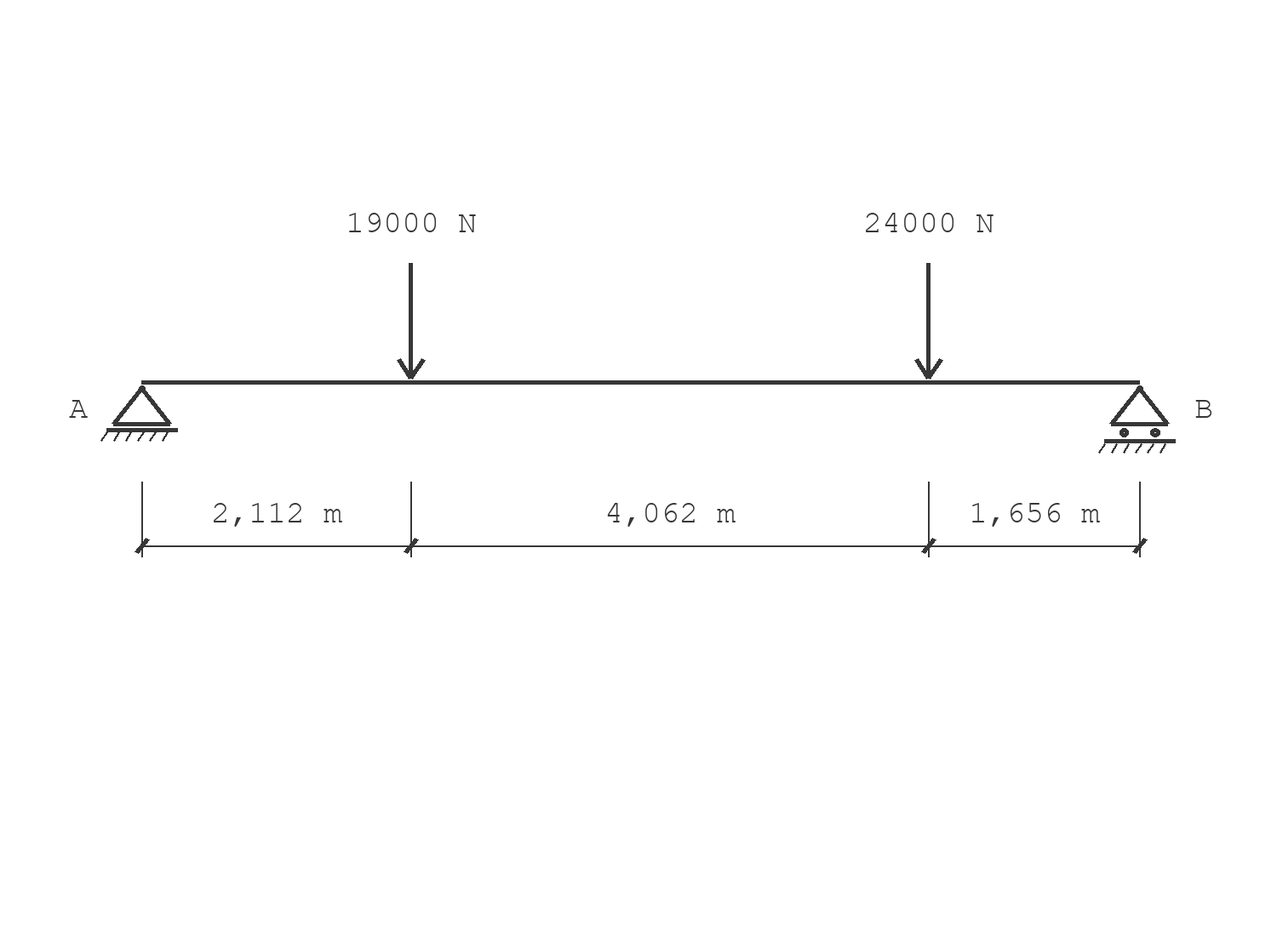pin_support: (100, 385, 178, 442)
point_load: (397, 263, 426, 380), (914, 263, 943, 380)
roller_support: (1098, 385, 1176, 454)
